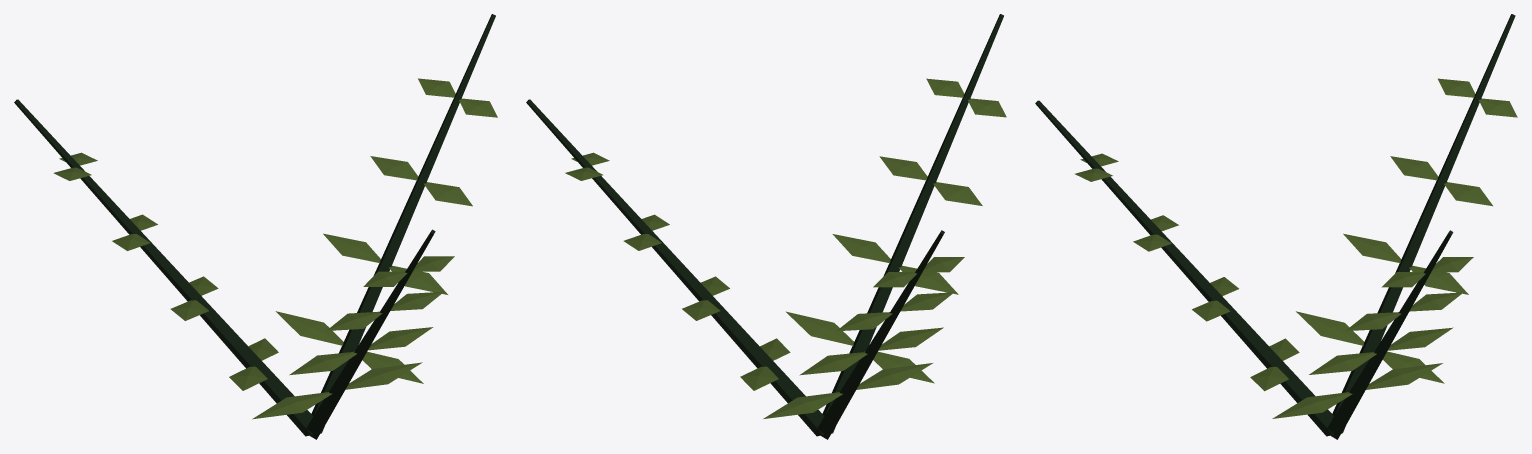
File: Plant_Fern_01.fbx
The picture shows the model from 3 angles, left to right: view 1: azimuth 30°, elevation 25°; view 2: azimuth 150°, elevation 25°; view 3: azimuth 270°, elevation 25°; orthographic projection.
Visible parts, largest first — view 1: Plant_Fern_01_Mesh; view 2: Plant_Fern_01_Mesh; view 3: Plant_Fern_01_Mesh.
Part boxes in pixels (box(x1,y1,x2,y2)): Plant_Fern_01_Mesh: box(14, 14, 497, 439); Plant_Fern_01_Mesh: box(526, 14, 1006, 439); Plant_Fern_01_Mesh: box(1035, 14, 1517, 439).
Bounding box in the file's own units: 0.7372 × 0.5054 × 0.686.
Materials: 1 (1 with a texture image).
